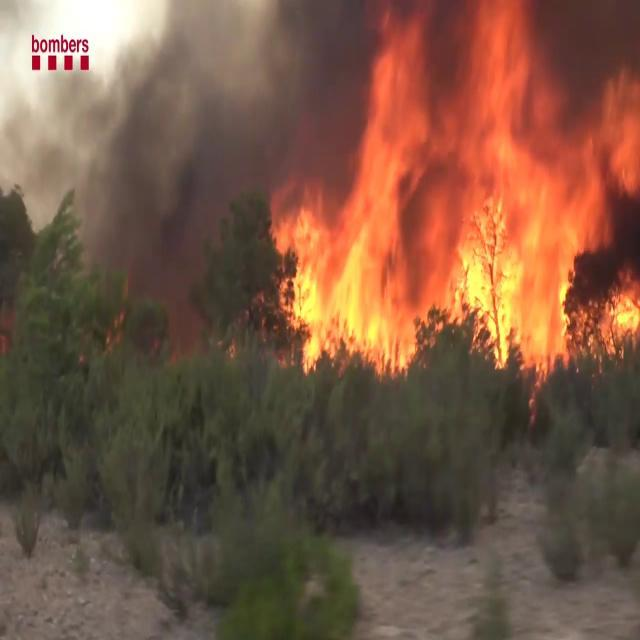Fire: (262, 7, 640, 380)
Smoke: (12, 0, 352, 294)
